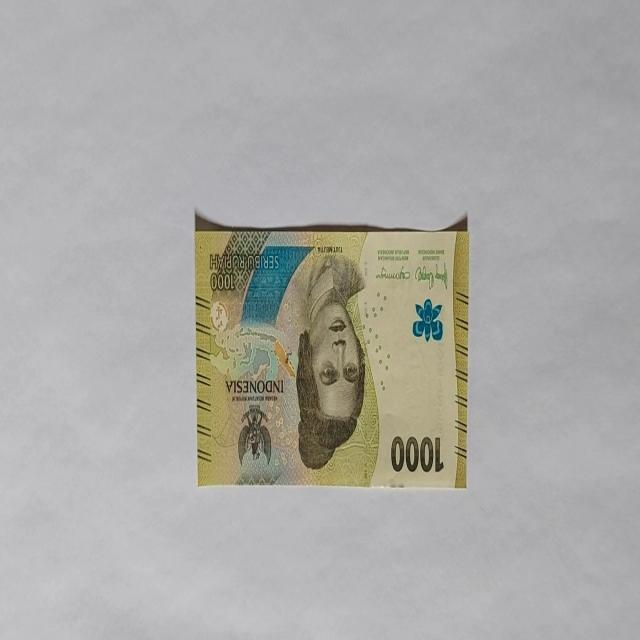seribu rupiah kertas: (195, 214, 470, 489)
